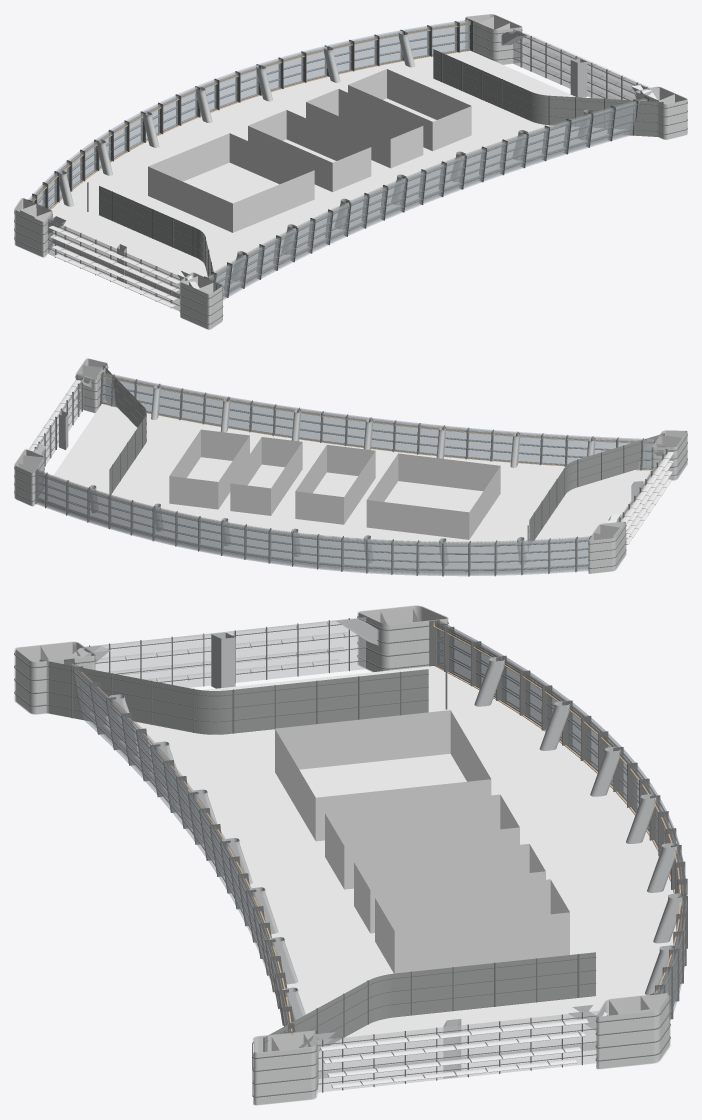
3 renders of one model, top to bottom at view 1: azimuth 30°, elevation 25°; view 2: azimuth 150°, elevation 25°; view 3: azimuth 270°, elevation 25°, orthographic. The views are drawn at different scales.
Visible parts, largest first — view 1: floor.028; view 2: floor.028; view 3: floor.028.
Boxes of the visible parts, <box> form: floor.028: <box>14,14,687,329</box>; floor.028: <box>14,358,687,576</box>; floor.028: <box>14,605,687,1105</box>.
Bounding box in the file's own units: 81.96 × 4.45 × 52.06.
14 materials, 1 textured.
